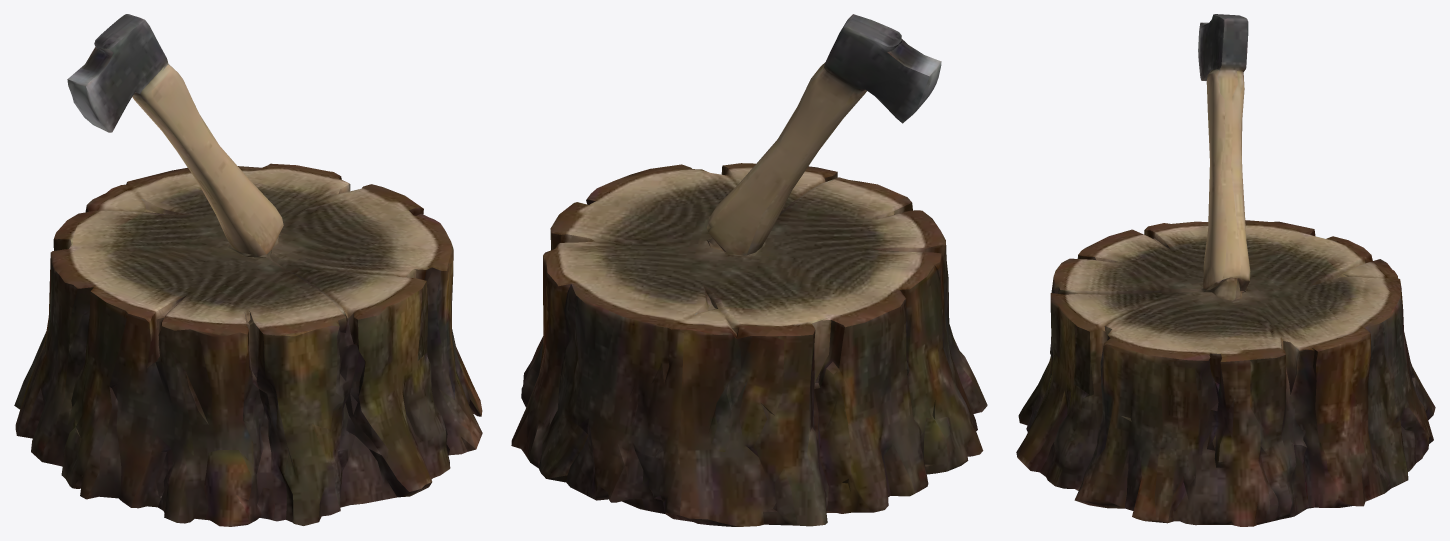
Rendered from stump.glb.
3 renders of one model, left to right at view 1: azimuth 30°, elevation 25°; view 2: azimuth 150°, elevation 25°; view 3: azimuth 270°, elevation 25°, orthographic. The views are drawn at different scales.
Visible parts, largest first — view 1: stump; view 2: stump; view 3: stump.
Part boxes in pixels (x1,y1,x2,y2): stump: (14,14,482,526); stump: (511,14,987,526); stump: (1016,14,1435,526).
Size of the model in its own units: 0.7251 by 0.75 by 0.7482.
1 material, 1 textured.
